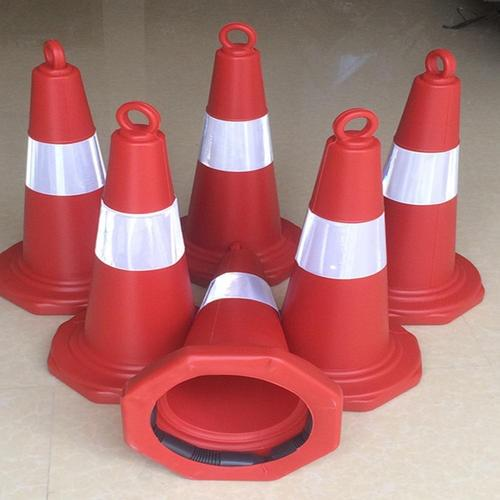cone_barrel: (73, 103, 201, 387), (280, 107, 405, 388), (182, 28, 292, 284), (10, 42, 111, 307), (381, 47, 475, 319), (191, 244, 284, 385)
